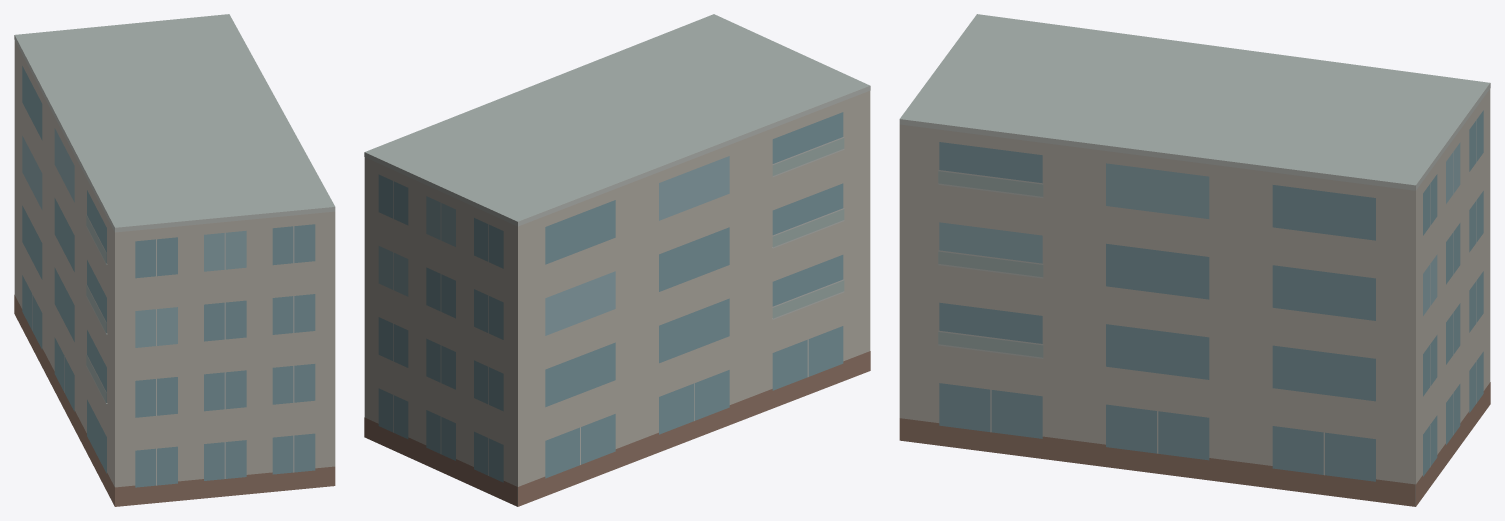
Rendered from survey-upis-32841553.glb.
The picture shows the model from 3 angles, left to right: view 1: azimuth 30°, elevation 25°; view 2: azimuth 150°, elevation 25°; view 3: azimuth 270°, elevation 25°; orthographic projection. The views are drawn at different scales.
Visible parts, largest first — view 1: survey-upis-32841553.tmp; view 2: survey-upis-32841553.tmp; view 3: survey-upis-32841553.tmp.
Part boxes in pixels (left/top/right/bottom): survey-upis-32841553.tmp: left=14, top=14, right=335, bottom=506; survey-upis-32841553.tmp: left=364, top=14, right=870, bottom=506; survey-upis-32841553.tmp: left=899, top=14, right=1490, bottom=506.
Size of the model in its own units: 16.59 by 14.5 by 24.16.
